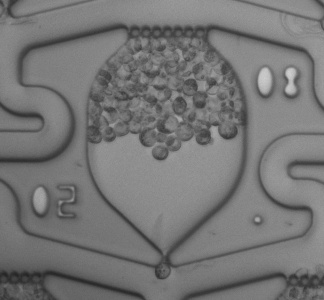AptNum: (249, 59, 311, 104)
Marker: (244, 206, 274, 233)
StNum: (23, 176, 85, 226)
Trap: (144, 256, 188, 298)
